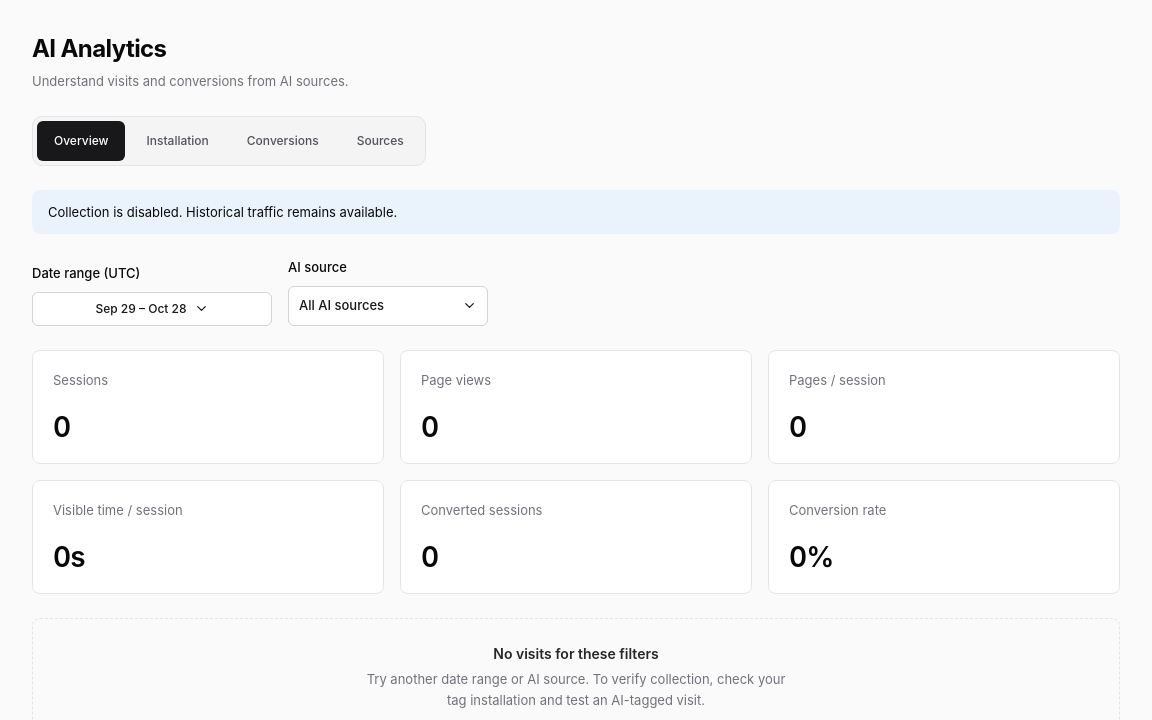
it: analytics date range › keeps incomplete or overly long custom ranges from being applied
The image size is (1152, 720).
Step 1. Click the button named "Date range (UTC)" → (152,309), box x1=32 y1=292 x2=272 y2=326
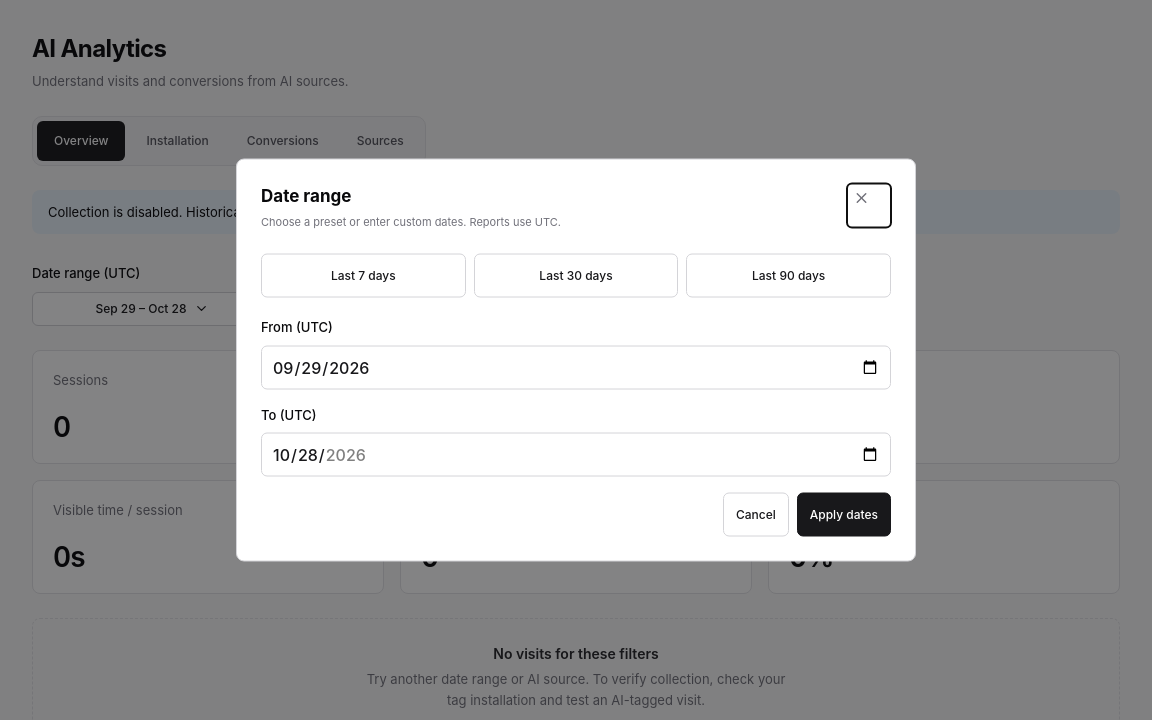
Step 2. Clear the date field labelled "From (UTC)" → (576,367), box x1=261 y1=345 x2=891 y2=389
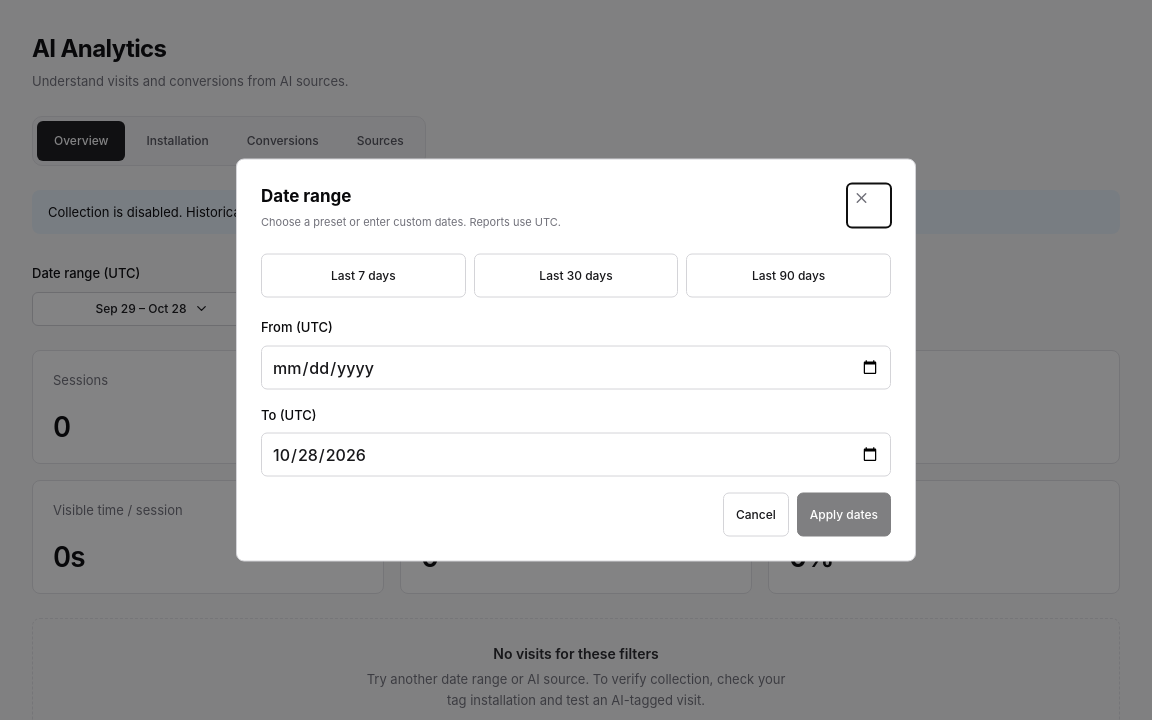
Now the button "Apply dates" is disabled, box x1=797 y1=492 x2=891 y2=536
Step 3. Type "2000-01-01" into the date field labelled "From (UTC)" → (576,367), box x1=261 y1=345 x2=891 y2=389
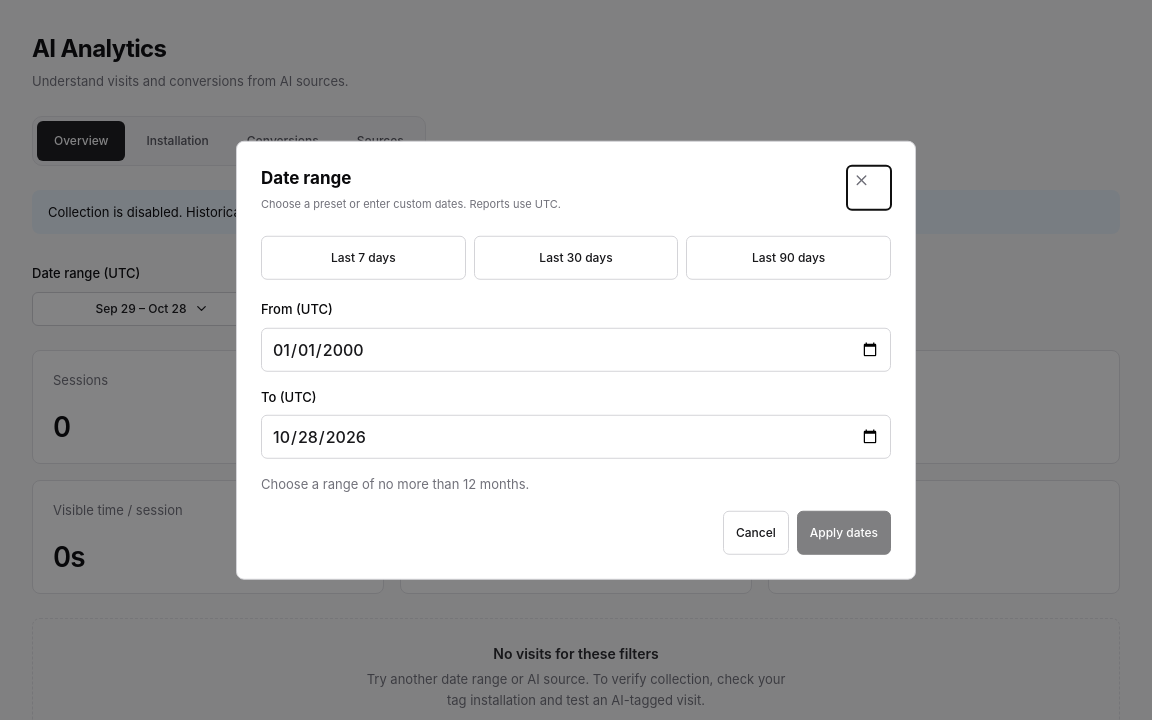
Now the button "Apply dates" is disabled, box x1=797 y1=510 x2=891 y2=554
Now the message shows "no more than 12 months", box x1=261 y1=476 x2=529 y2=492
